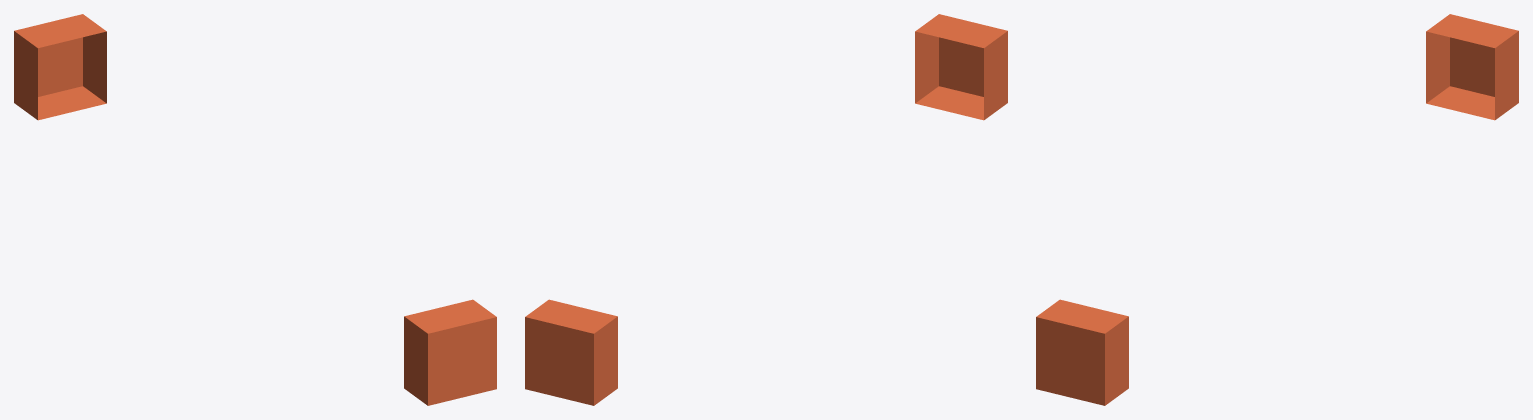
Rendered from FrontLights2.glb.
3 renders of one model, left to right at view 1: azimuth 30°, elevation 25°; view 2: azimuth 150°, elevation 25°; view 3: azimuth 330°, elevation 25°, orthographic.
Parts seen in each view (by area): view 1: Cube.137; view 2: Cube.137; view 3: Cube.137.
Boxes of the visible parts, x1,y1,x2,y2 form: Cube.137: (14, 14, 496, 405); Cube.137: (525, 14, 1007, 405); Cube.137: (1036, 14, 1518, 405).
Bounding box in the file's own units: 0.00645 × 0.00645 × 0.0671.
Materials: 1 (1 with a texture image).
